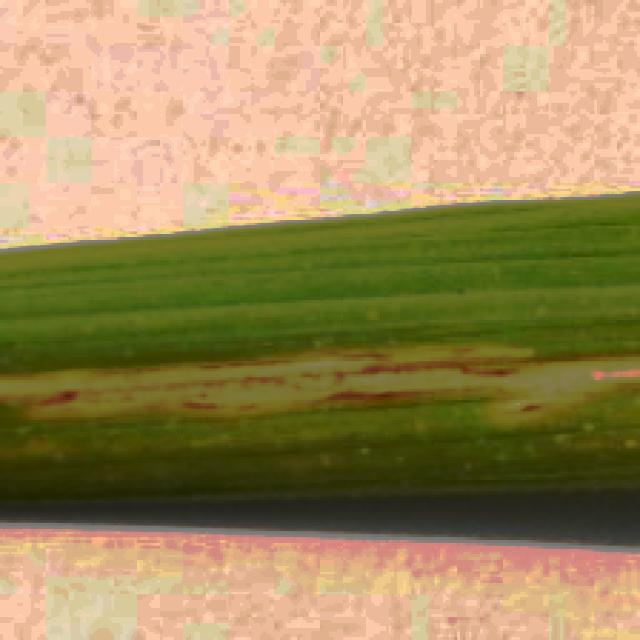unhealth: (0, 196, 637, 511)
